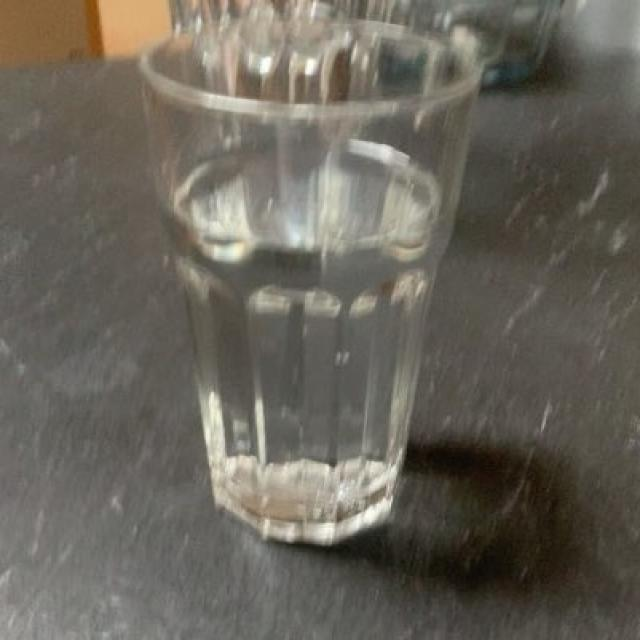water: (171, 152, 444, 518)
